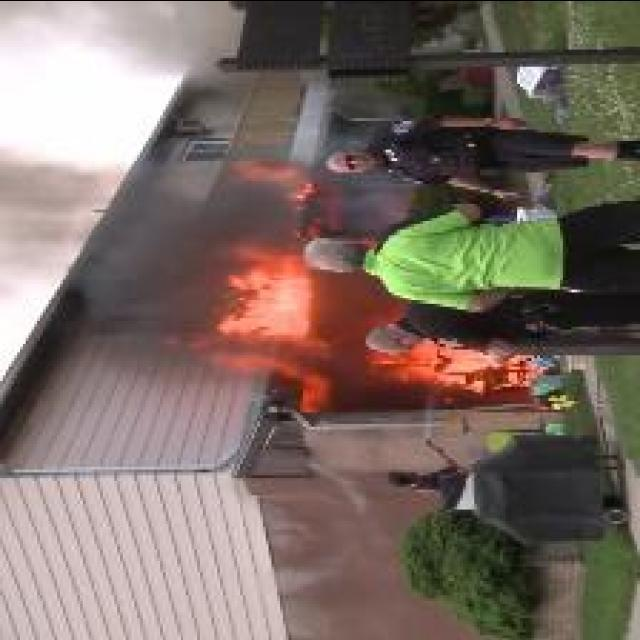Fire: (214, 245, 308, 338), (363, 348, 540, 396)
